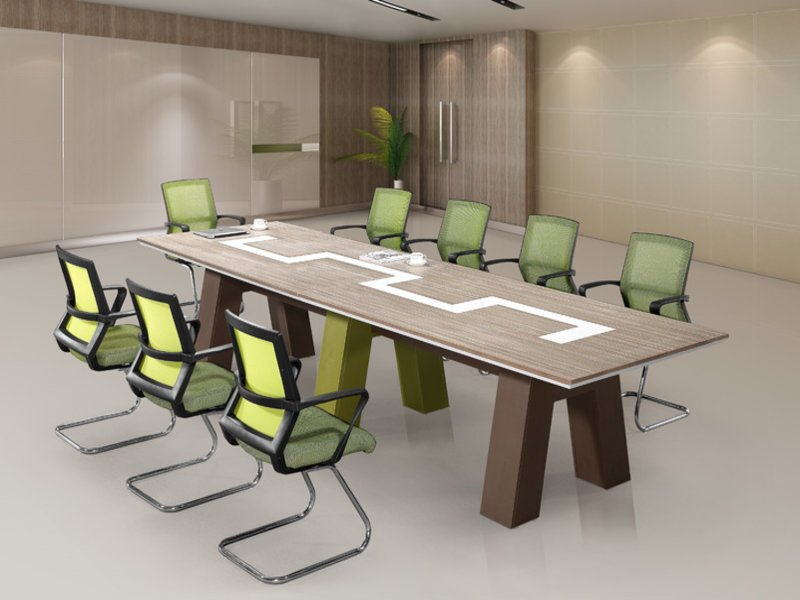conference_table: (137, 221, 729, 528)
